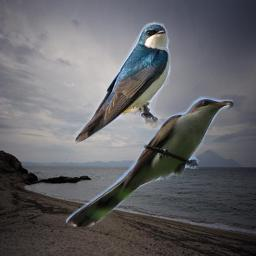Cuckoo: (66, 96, 233, 227)
Swallow: (70, 19, 175, 145)
